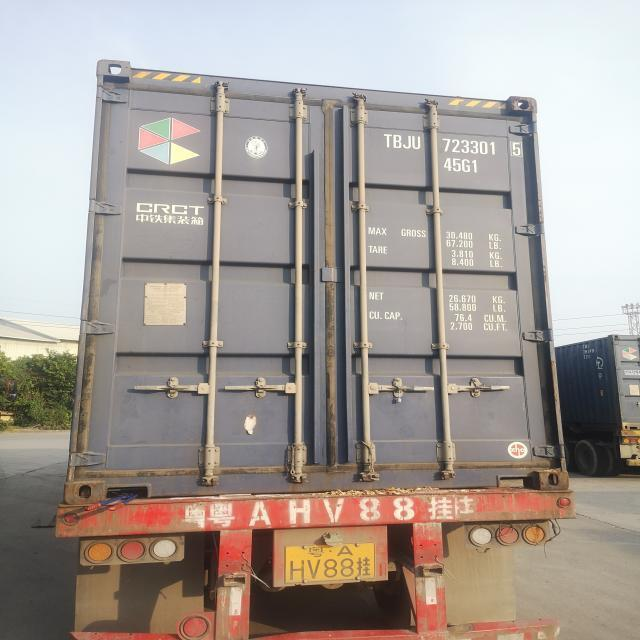ISO: (443, 157, 482, 176)
container_number: (385, 133, 527, 155)
